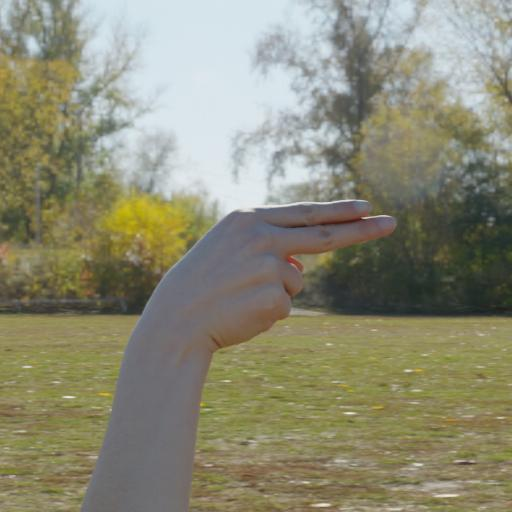H: (169, 186, 425, 358)
